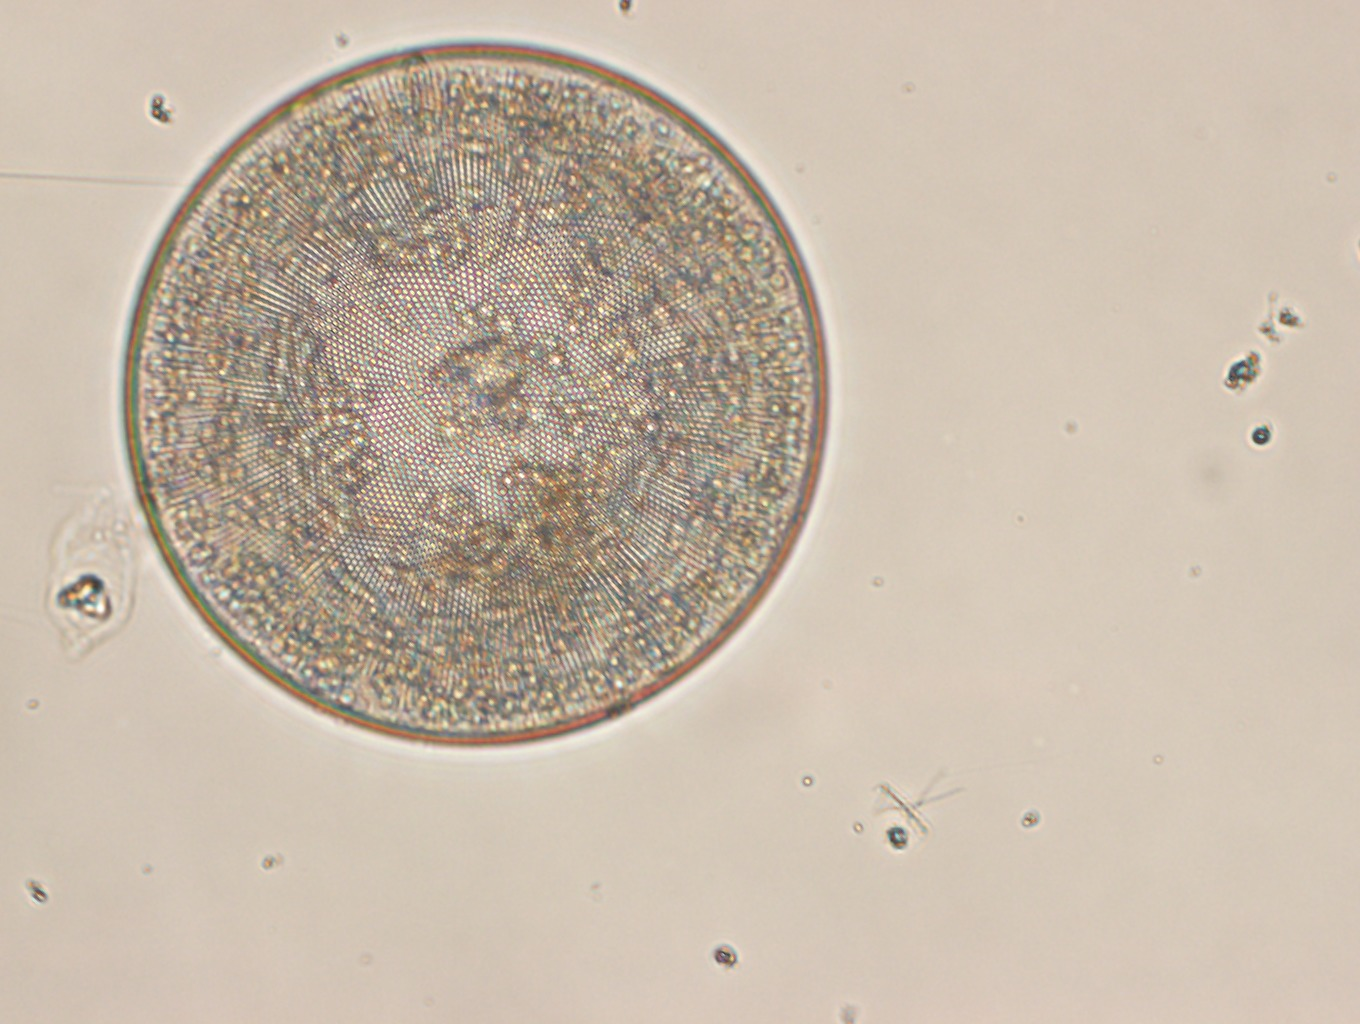coscinodiscus: (118, 35, 831, 749)
